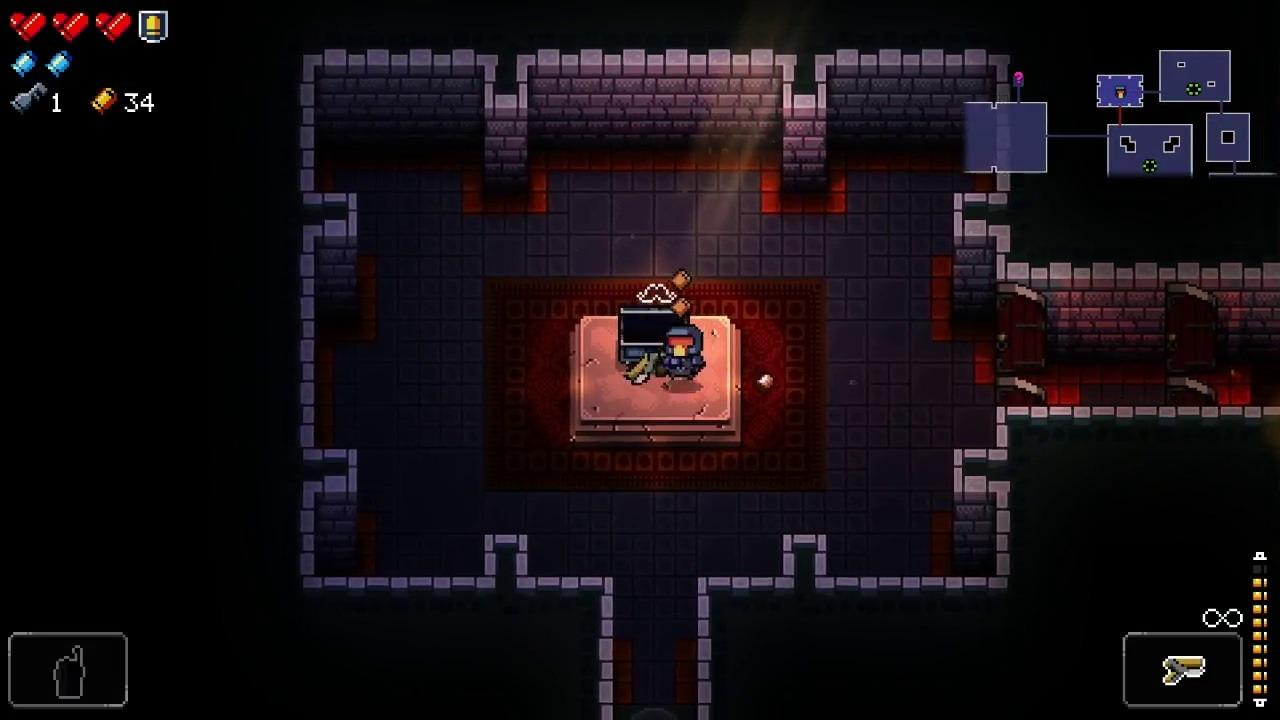player: (666, 326, 707, 379)
unlocked_door: (1167, 281, 1218, 405), (998, 284, 1047, 408)
